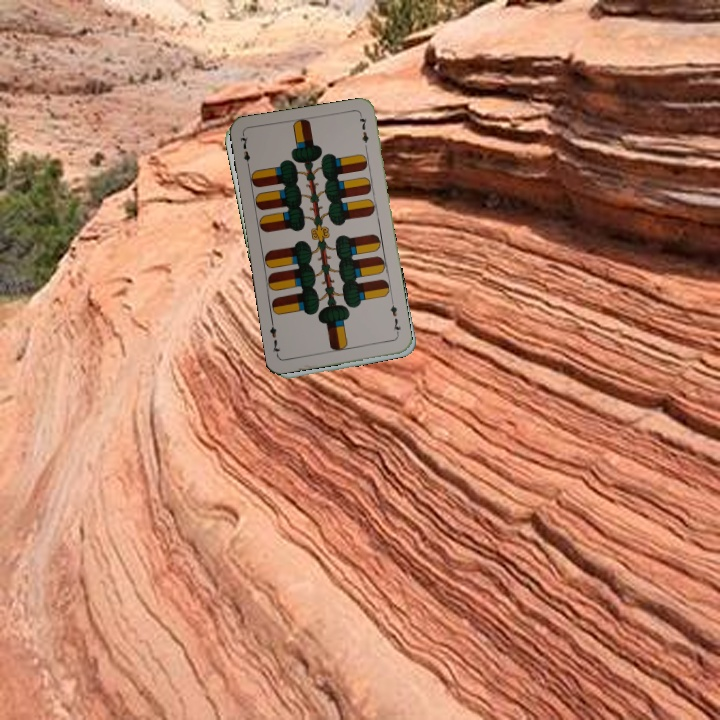E7: (386, 298, 403, 339), (236, 131, 253, 172)
